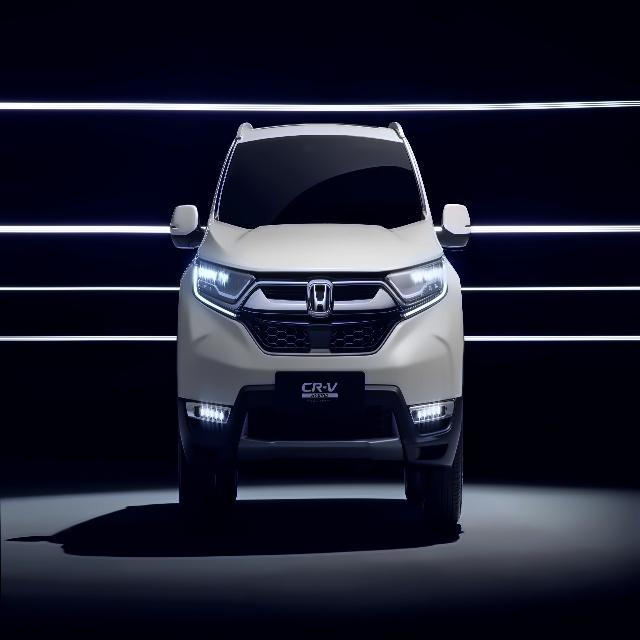Car hood: (193, 218, 442, 274)
Front bumper: (173, 300, 462, 471)
Headlight - -L-: (381, 253, 447, 322)
Headlight - -R-: (190, 257, 260, 319)
Side mirror - -L-: (427, 200, 472, 251)
Side mirror - -R-: (162, 203, 211, 253)
